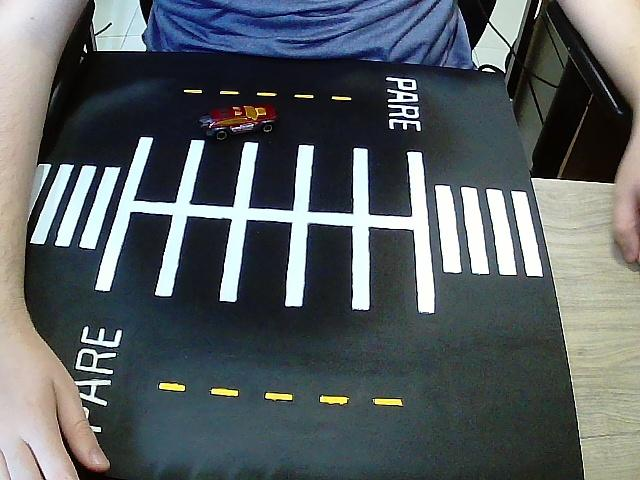Carro: (194, 99, 280, 141)
